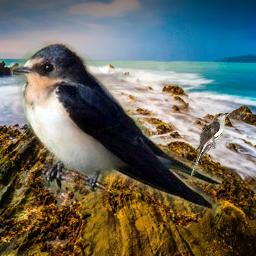Cuckoo: (191, 112, 229, 176)
Swallow: (10, 39, 222, 217)
